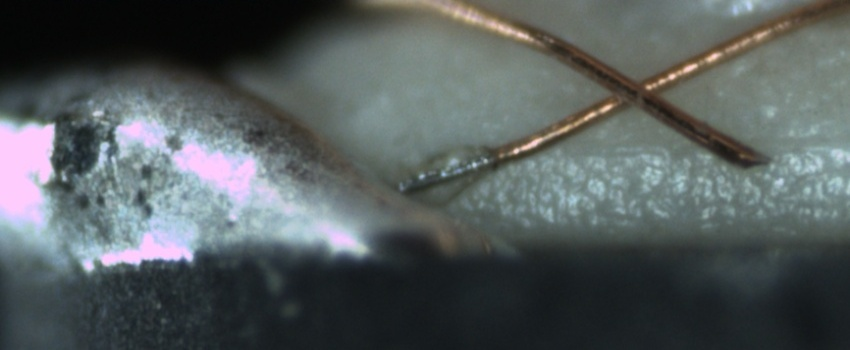CL: (588, 57, 682, 119)
DL: (531, 114, 850, 181)
TS: (397, 148, 496, 194)
TTCW: (401, 129, 546, 194)
